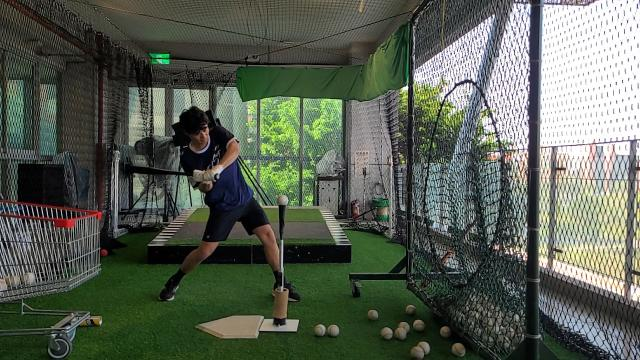ball: (278, 195, 288, 206)
bat: (125, 165, 193, 179)
